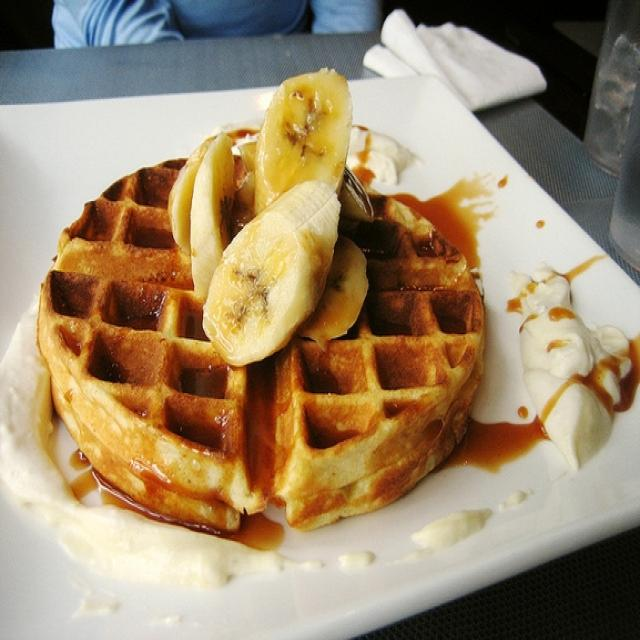炸货点心: (6, 53, 634, 631)
蛋糕甜品: (6, 53, 634, 631)
